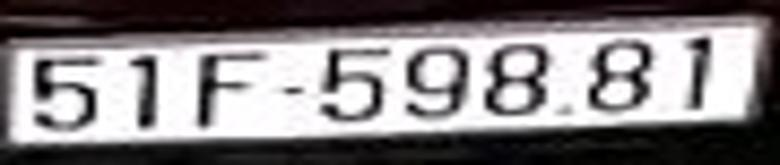-: (279, 84, 304, 98)
.: (555, 104, 573, 117)
1: (125, 57, 159, 128), (686, 35, 710, 111)
5: (31, 57, 101, 131), (323, 46, 384, 121)
8: (591, 39, 652, 114), (486, 45, 548, 118)
9: (408, 47, 467, 117)
F: (189, 53, 264, 130)
